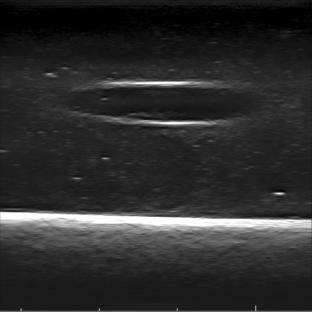vessel: (64, 80, 255, 126)
